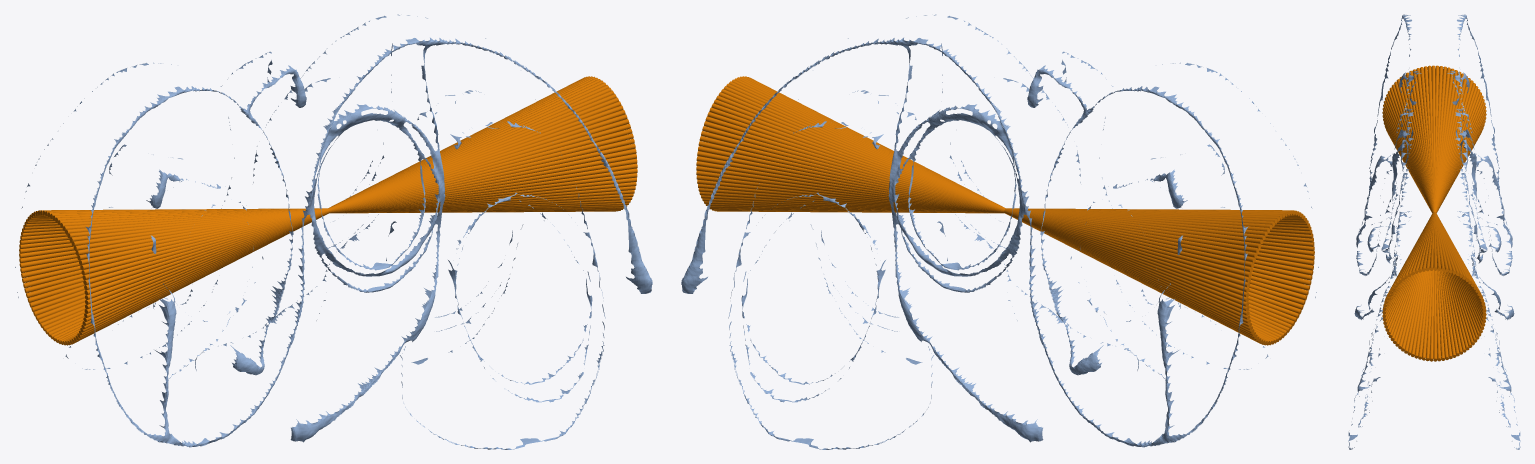
Rendered from A60023117_6150-37-523-7827_DigitalTwin.glb.
The picture shows the model from 3 angles, left to right: view 1: azimuth 30°, elevation 25°; view 2: azimuth 150°, elevation 25°; view 3: azimuth 270°, elevation 25°; orthographic projection. The views are drawn at different scales.
Parts seen in each view (by area): view 1: world; view 2: world; view 3: world.
Part boxes in pixels (box(x1,y1,x2,y2)): world: box(15, 14, 652, 449); world: box(681, 14, 1318, 449); world: box(1348, 14, 1520, 449).
Size of the model in its own units: 505 by 353 by 181.
